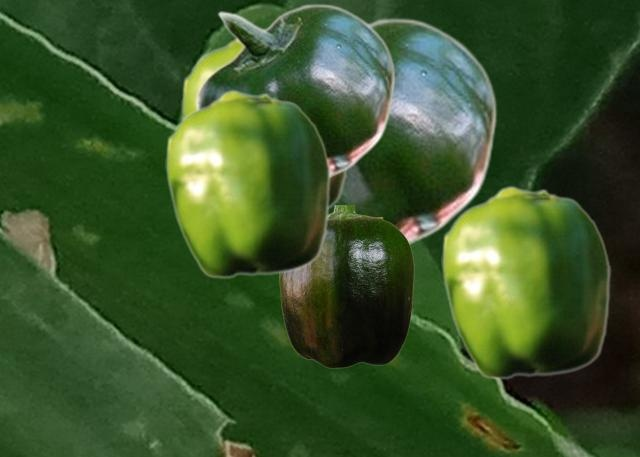bell_pepper: (268, 17, 496, 247), (194, 3, 394, 179), (441, 185, 610, 379), (165, 89, 330, 278), (181, 37, 350, 210), (279, 205, 413, 367)
